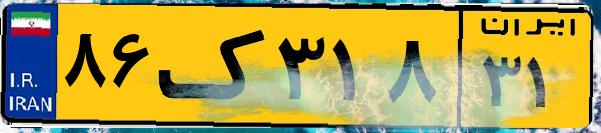1: (330, 28, 385, 110), (525, 38, 570, 115)
3: (270, 28, 330, 110), (475, 38, 525, 113)
6: (110, 28, 158, 98)
8: (385, 28, 445, 110), (57, 26, 110, 100)
ک: (158, 12, 270, 120)
